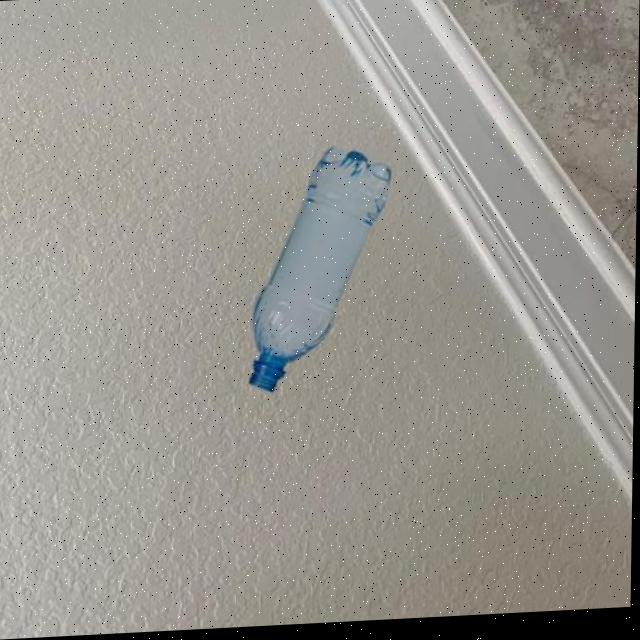bottle: (247, 146, 395, 397)
